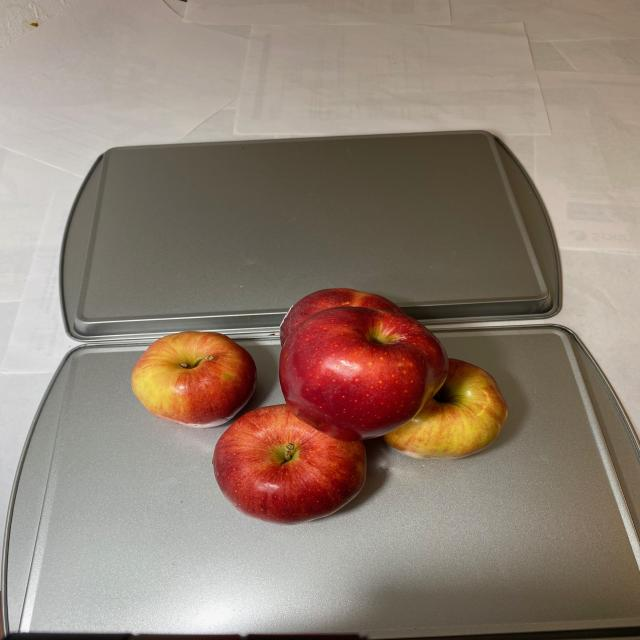apple: (121, 287, 512, 528)
